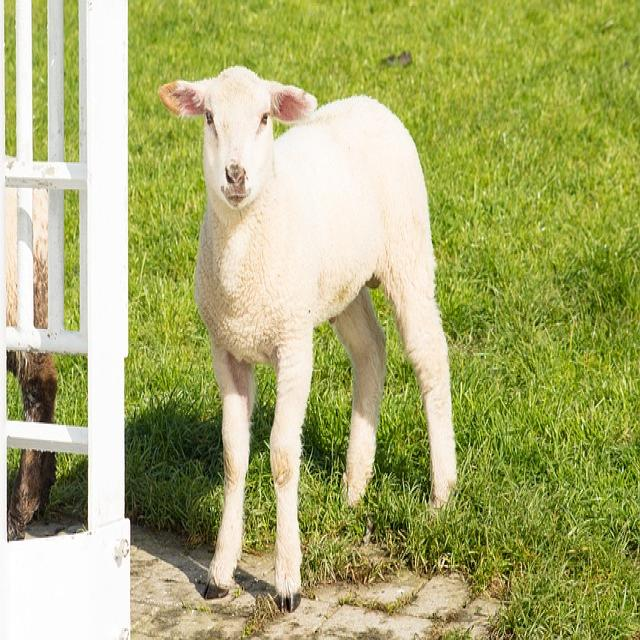goat: (156, 66, 458, 614)
